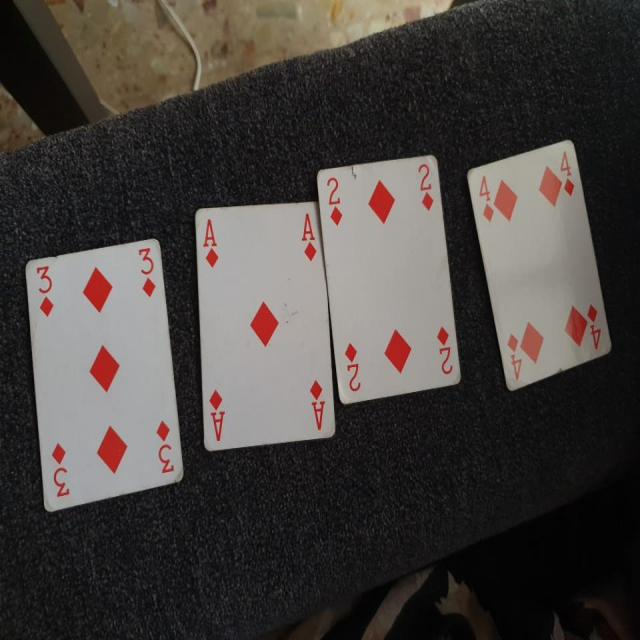2 Diamonds: (316, 139, 465, 406)
3 Diamonds: (25, 230, 184, 515)
4 Diamonds: (464, 140, 616, 398)
A Diamonds: (190, 200, 338, 455)
